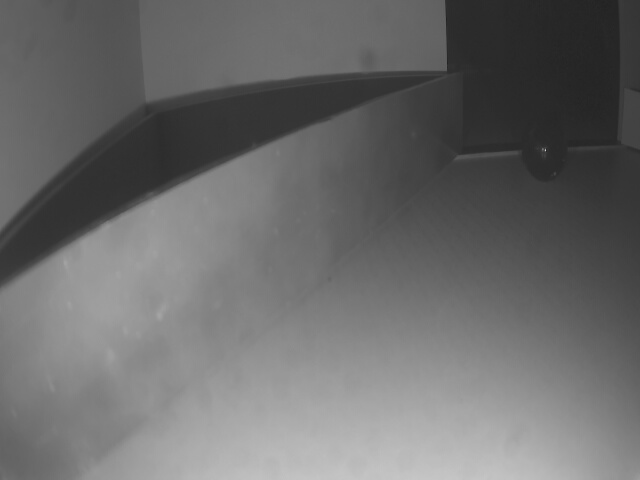Dead: (524, 116, 568, 184)
Green: (0, 74, 464, 480)
Red: (622, 86, 640, 150)
